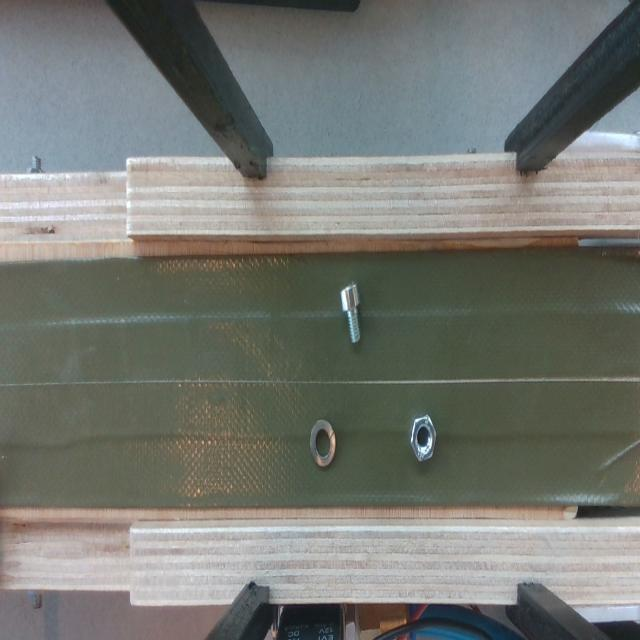Bolt: (336, 283, 372, 351)
Nut: (404, 409, 440, 467)
Washer: (307, 409, 338, 473)
